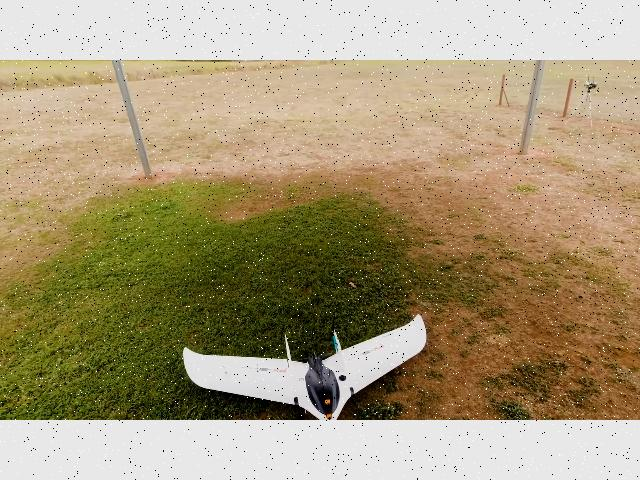Anti-Drone: (150, 290, 466, 420)
